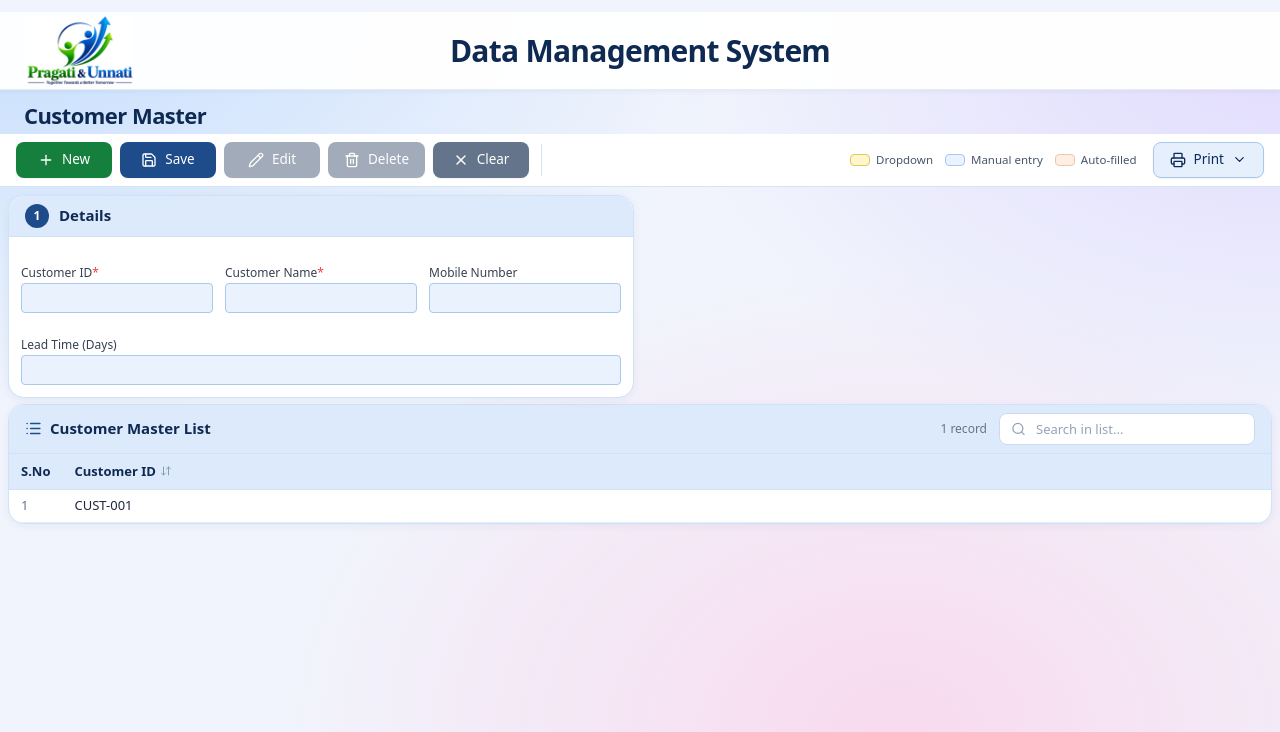
Test: MasterFormScreen validation › refuses a bad mobile and a bad number
Type "CUST-009" into the field labelled "Customer ID *" at (117, 298), box [21,282,213,312]
Type "New" into the field labelled "Customer Name *" at (321, 298), box [225,282,417,312]
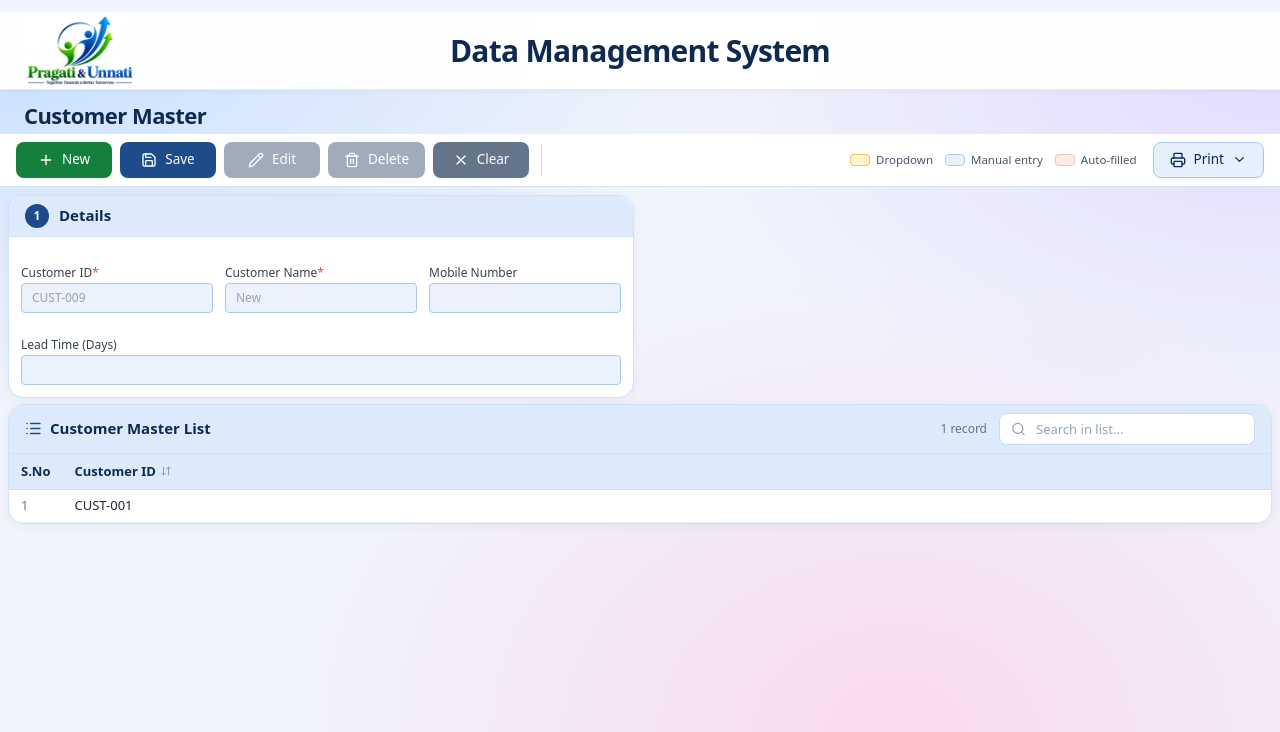
Type "abc" into the field labelled "Mobile Number" at (525, 298), box [429,282,621,312]
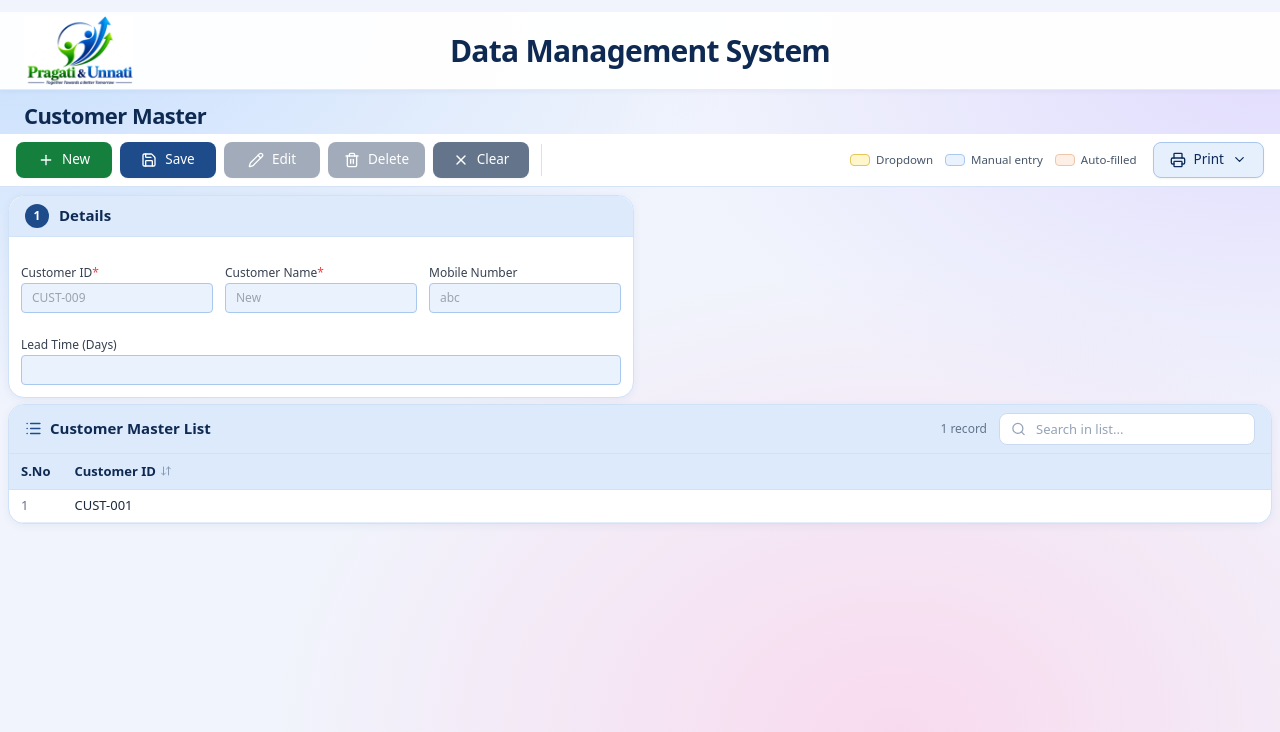
Click the button "Save" at (168, 160), box [120,142,216,178]
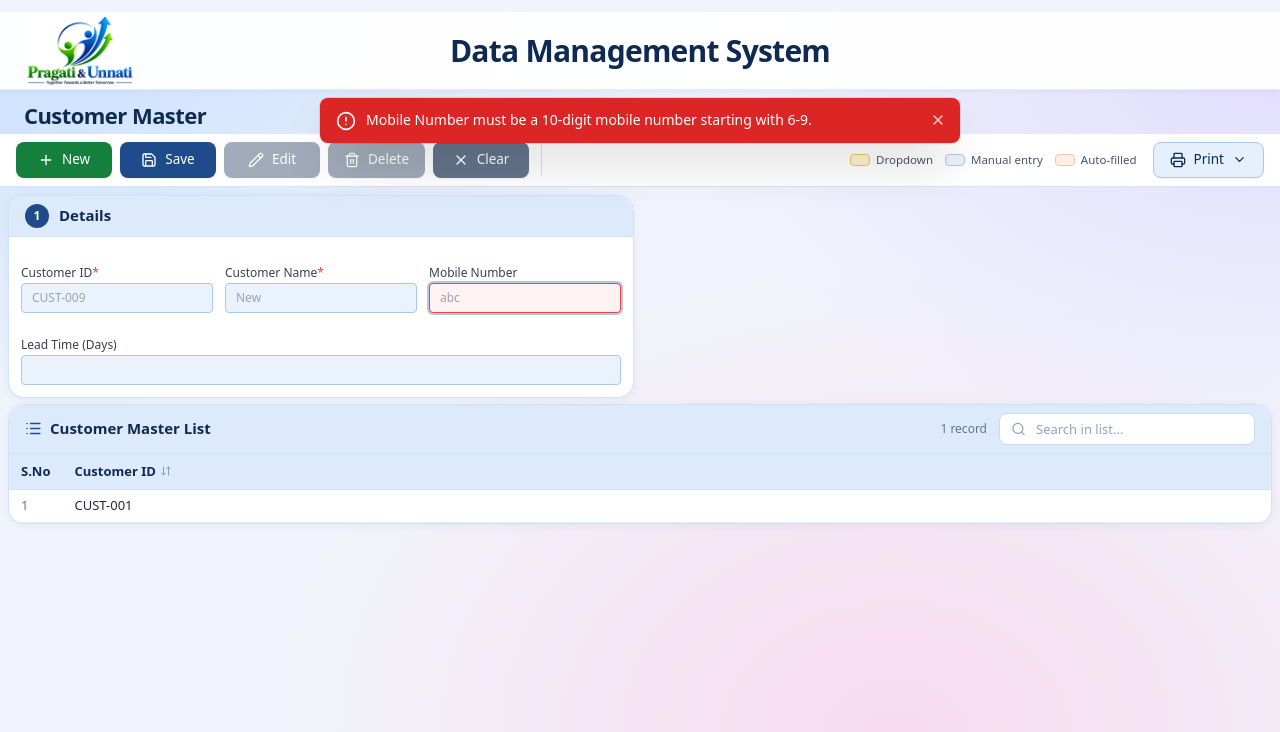
Expected: the text "10-digit mobile number" is shown, [366,110,812,129]
Replace the text in the field labelled "Mobile Number" with "9876543210" at (525, 298), box [429,282,621,312]
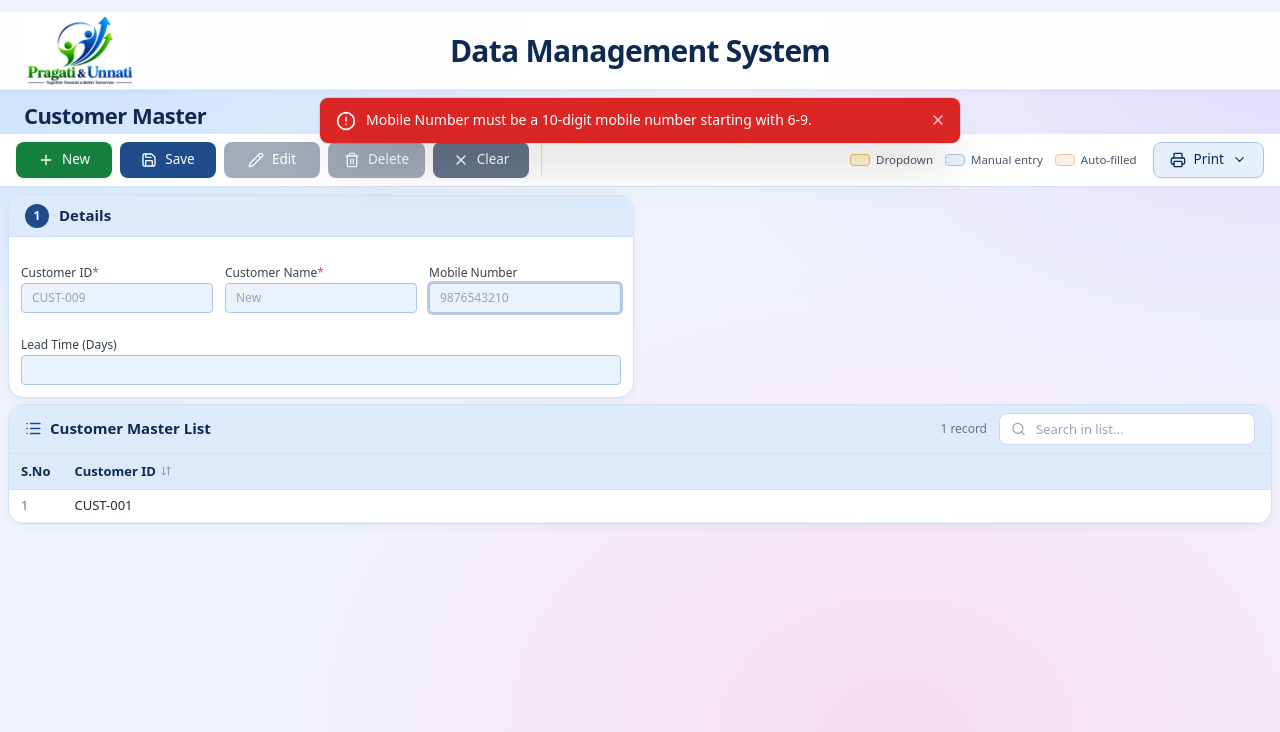
Type "0" into the number field labelled "Lead Time (Days)" at (321, 370), box [21,354,621,384]
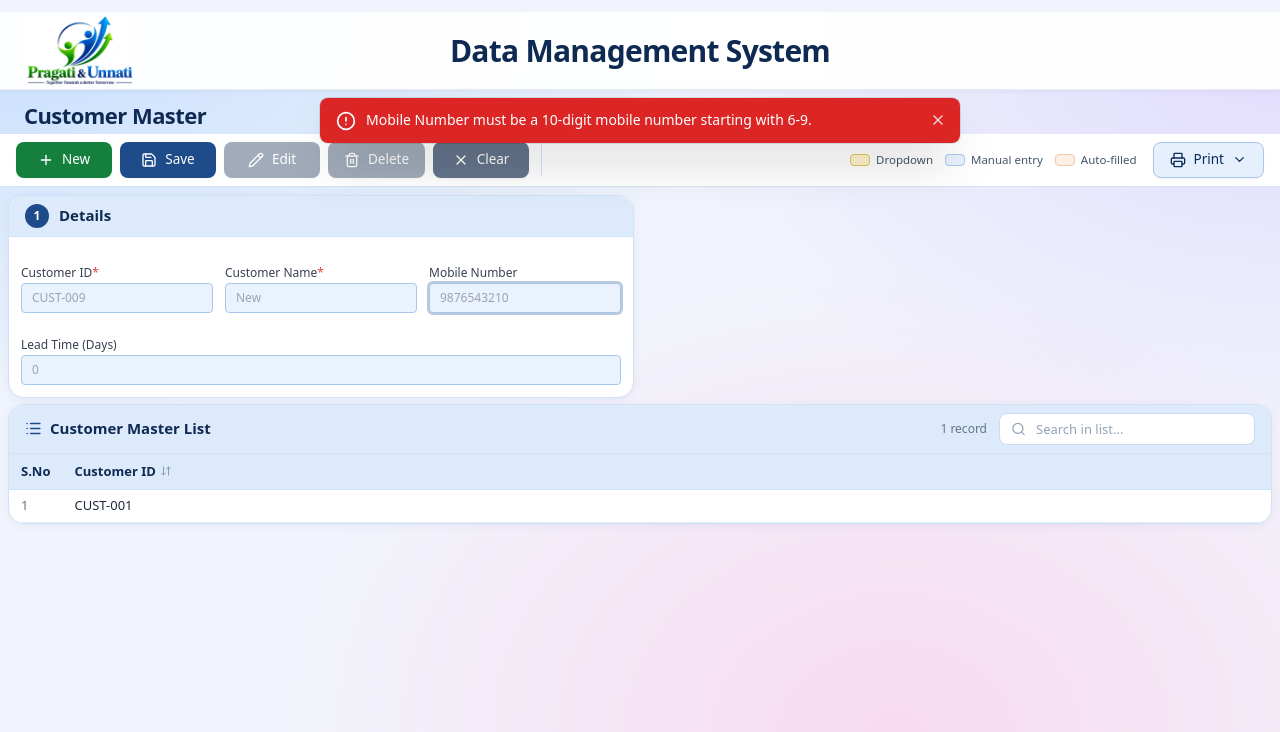
Click the button "Save" at (168, 160), box [120,142,216,178]
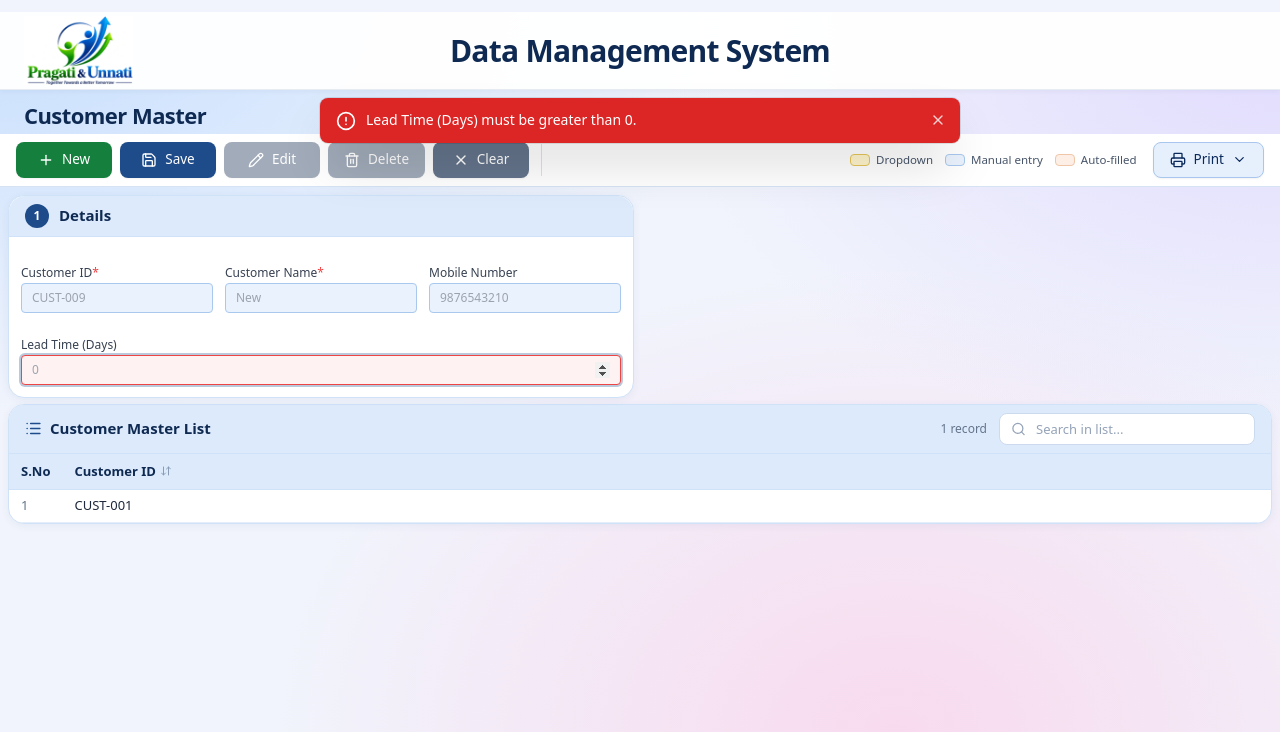
Expected: the text "Lead Time (Days) must be greater than 0." is shown, [366,110,636,129]
